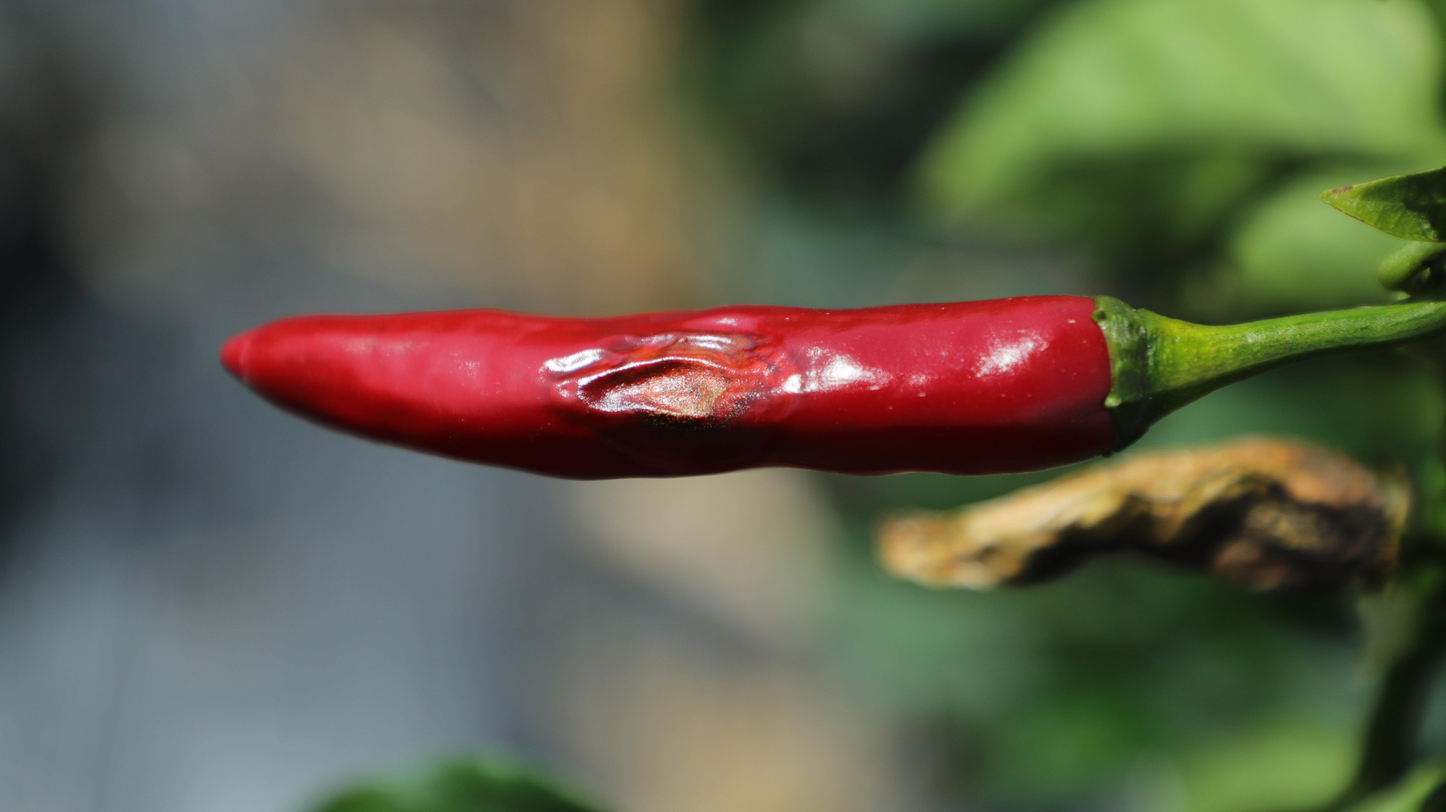Busuk Buah Antraknosa: (217, 290, 1172, 483)
